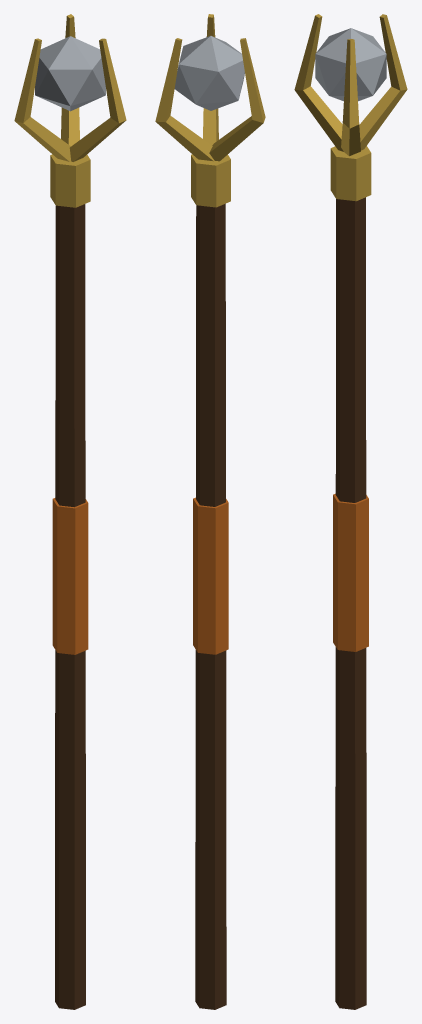
Rendered from weapon_staff.glb.
3 views of the same model, side by side, from view 1: azimuth 90°, elevation 25°; view 2: azimuth 210°, elevation 25°; view 3: azimuth 270°, elevation 25° (orthographic).
Visible parts, largest first — view 1: cat_weapon_staff; view 2: cat_weapon_staff; view 3: cat_weapon_staff.
Boxes of the visible parts, x1,y1,x2,y2 form: cat_weapon_staff: [14, 14, 126, 1009]; cat_weapon_staff: [155, 14, 265, 1009]; cat_weapon_staff: [294, 14, 407, 1009].
Size of the model in its own units: 0.1306 by 1.39 by 0.1457.
